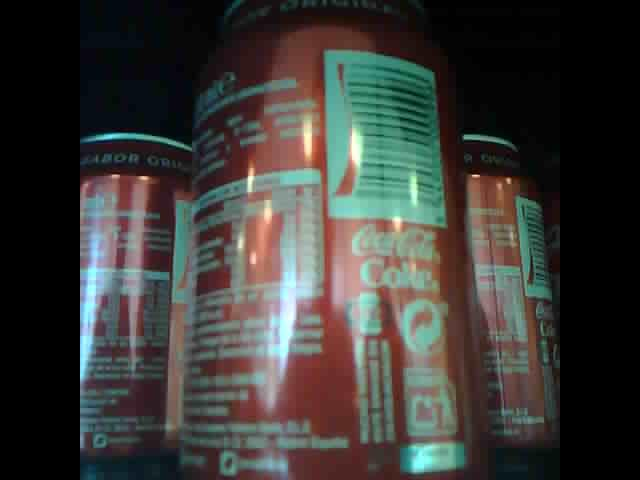coca cola: (171, 2, 479, 477), (79, 128, 193, 461), (460, 125, 561, 475)
